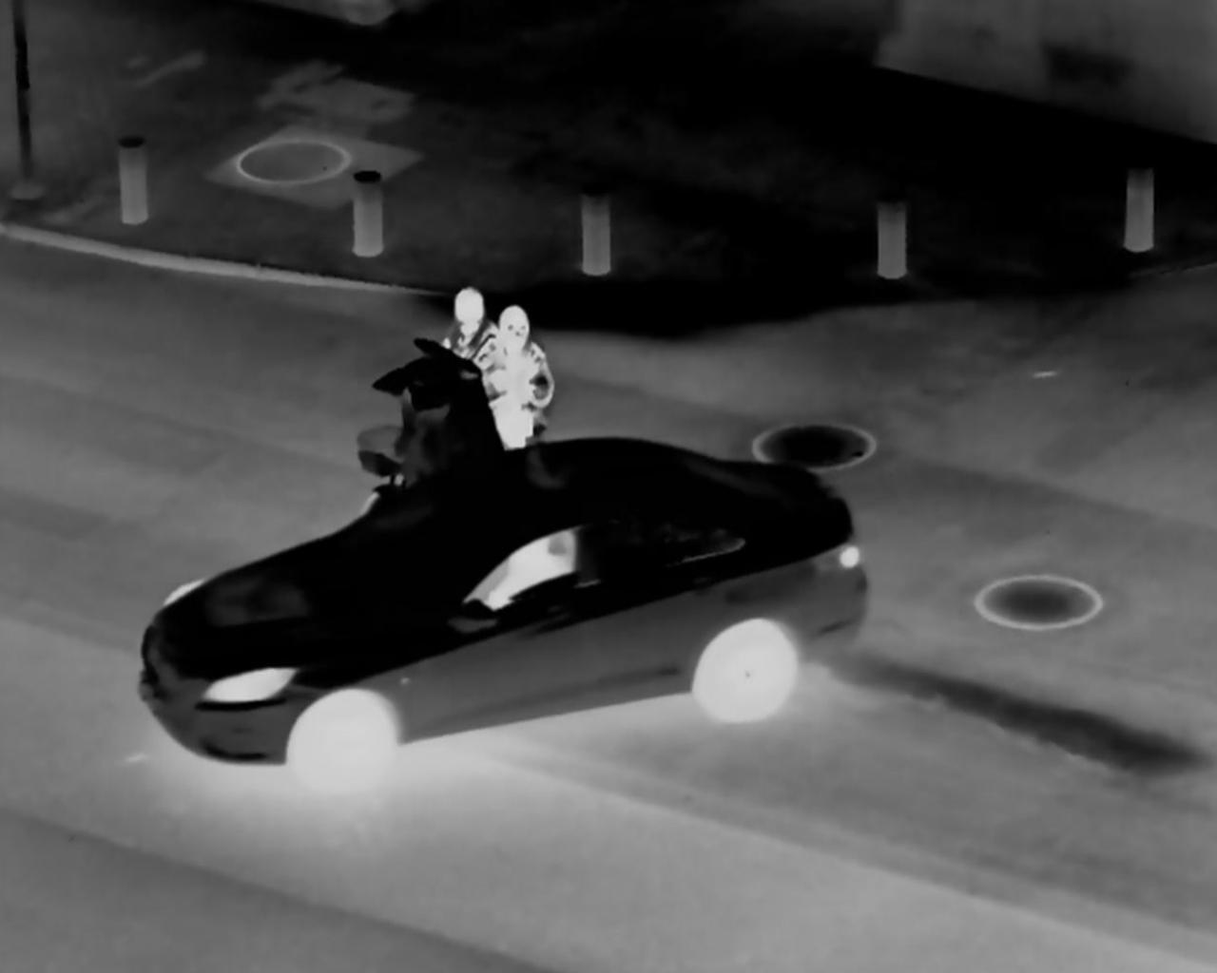person: (490, 305, 558, 445), (439, 276, 493, 382)
